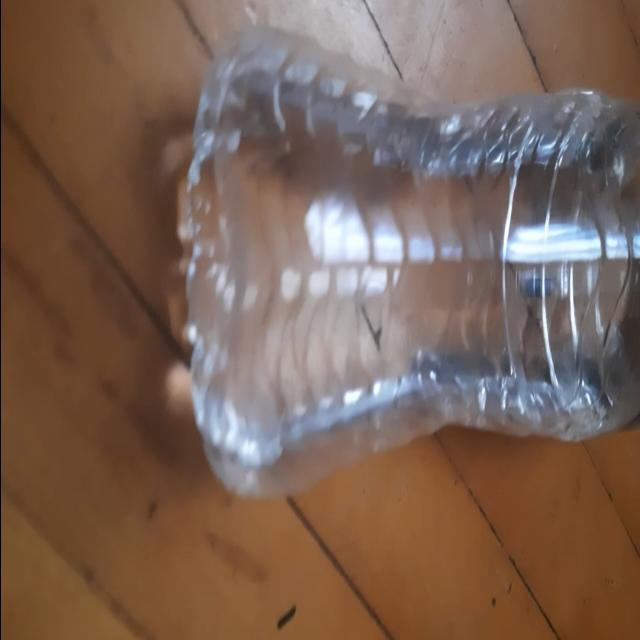Plastic: (166, 25, 640, 500)
